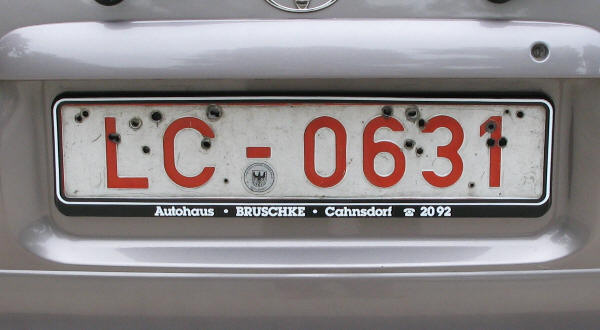license_plate: (54, 98, 554, 207)
